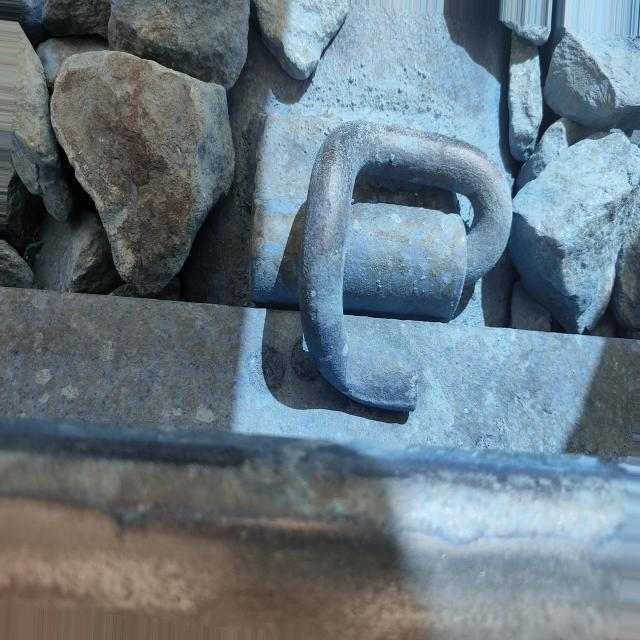Good Fasteners: (262, 96, 520, 435)
